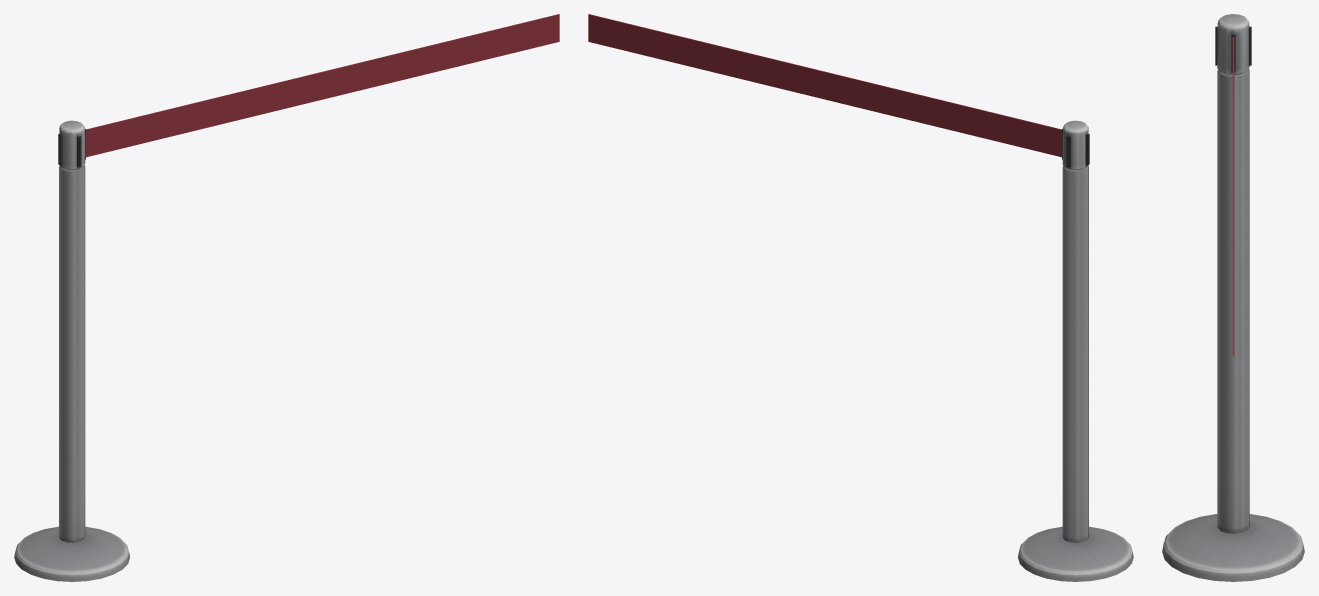
The model's file is MetalCrowdC.fbx.
3 views of the same model, side by side, from view 1: azimuth 30°, elevation 25°; view 2: azimuth 150°, elevation 25°; view 3: azimuth 270°, elevation 25° (orthographic). The views are drawn at different scales.
Parts seen in each view (by area): view 1: MetalCrowdC; view 2: MetalCrowdC; view 3: MetalCrowdC.
Part boxes in pixels (x1,y1,x2,y2): MetalCrowdC: (14,14,559,581); MetalCrowdC: (588,14,1133,581); MetalCrowdC: (1162,14,1304,581).
Size of the model in its own units: 129 by 99.16 by 24.09.
